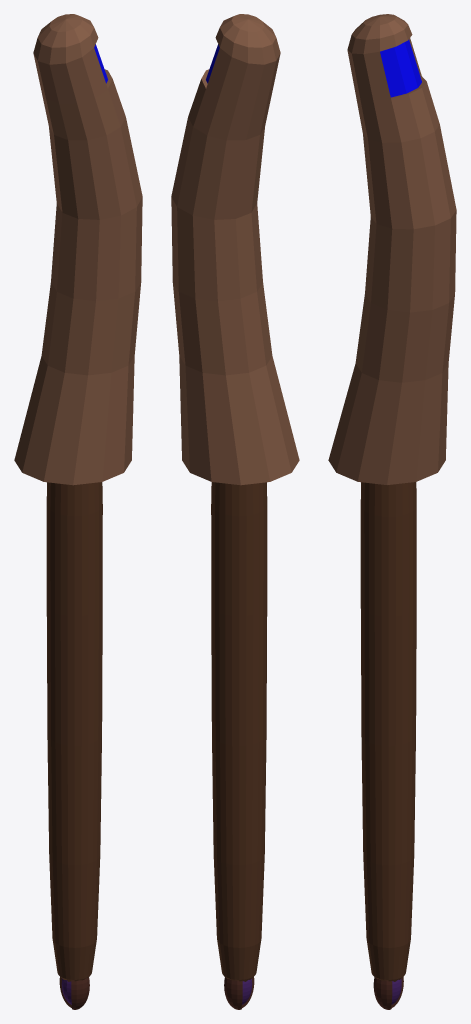
The model's file is Wand 47.glb.
The picture shows the model from 3 angles, left to right: view 1: azimuth 30°, elevation 25°; view 2: azimuth 150°, elevation 25°; view 3: azimuth 330°, elevation 25°; orthographic projection.
Parts seen in each view (by area): view 1: GeneratedWand; view 2: GeneratedWand; view 3: GeneratedWand.
Part boxes in pixels (x1=…): GeneratedWand: x1=14, y1=14, x2=142, y2=1009; GeneratedWand: x1=171, y1=14, x2=299, y2=1009; GeneratedWand: x1=328, y1=14, x2=456, y2=1009.
Bounding box in the file's own units: 0.0644 × 0.532 × 0.0572.
